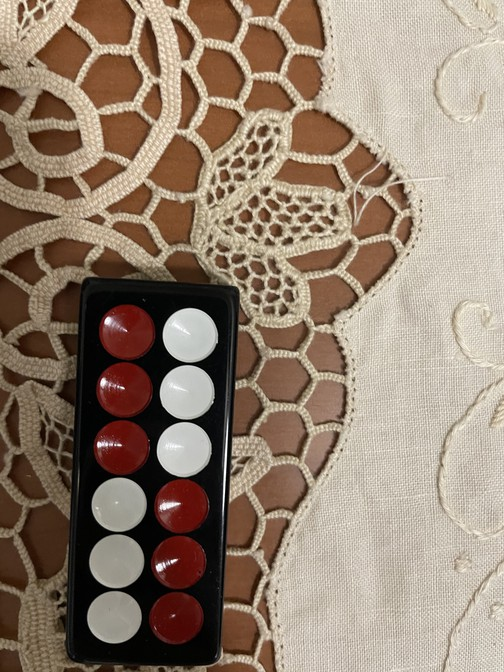heaven: (66, 277, 238, 669)
